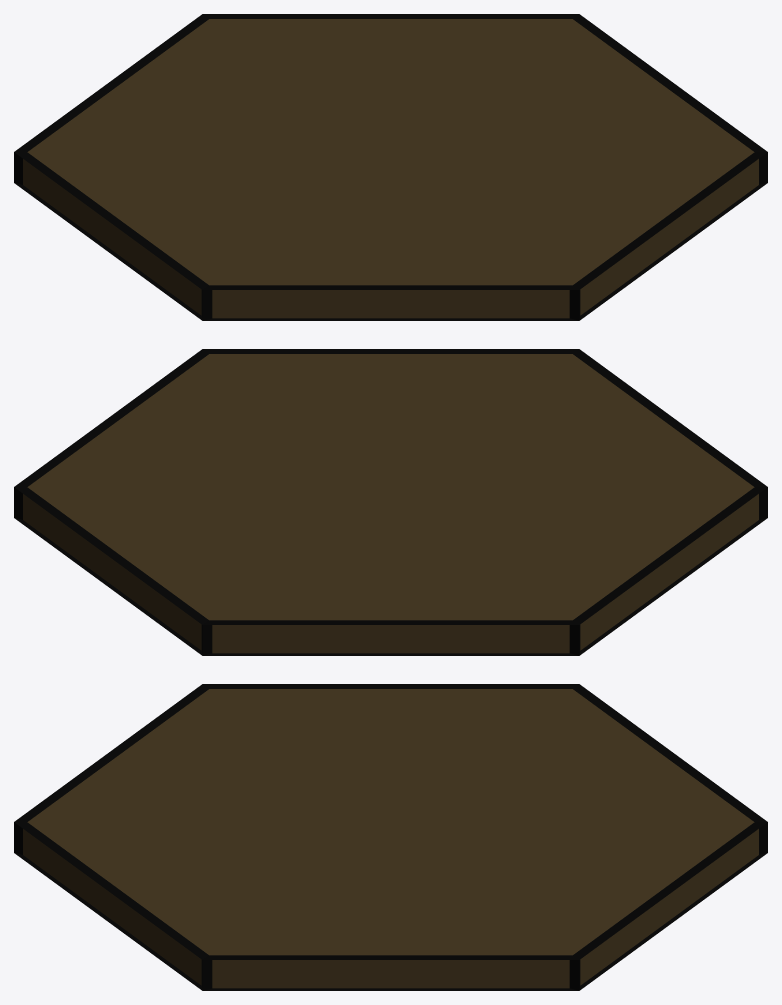
File: Hexagone_Tile.fbx
3 renders of one model, top to bottom at view 1: azimuth 30°, elevation 25°; view 2: azimuth 150°, elevation 25°; view 3: azimuth 270°, elevation 25°, orthographic.
Visible parts, largest first — view 1: Cylinder; view 2: Cylinder; view 3: Cylinder.
Boxes of the visible parts, x1,y1,x2,y2 form: Cylinder: [14, 14, 767, 320]; Cylinder: [14, 349, 767, 655]; Cylinder: [14, 684, 767, 990].
Bounding box in the file's own units: 552 × 28.83 × 638.
